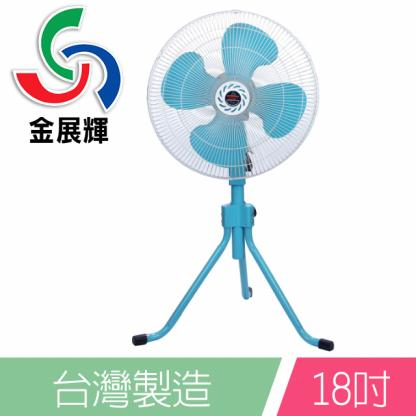fan: (130, 7, 344, 355)
